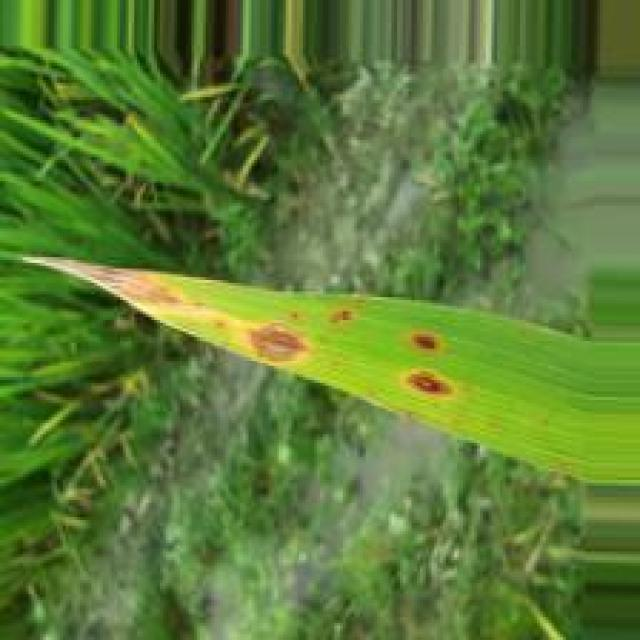Brown_Spot: (39, 258, 193, 312), (238, 318, 314, 372), (392, 364, 457, 404), (404, 323, 458, 357), (322, 307, 355, 322)
